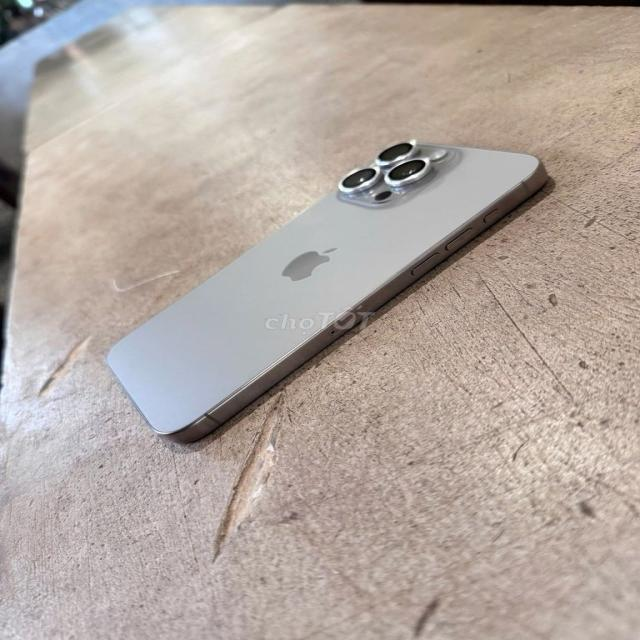gen_15: (92, 129, 573, 436)
